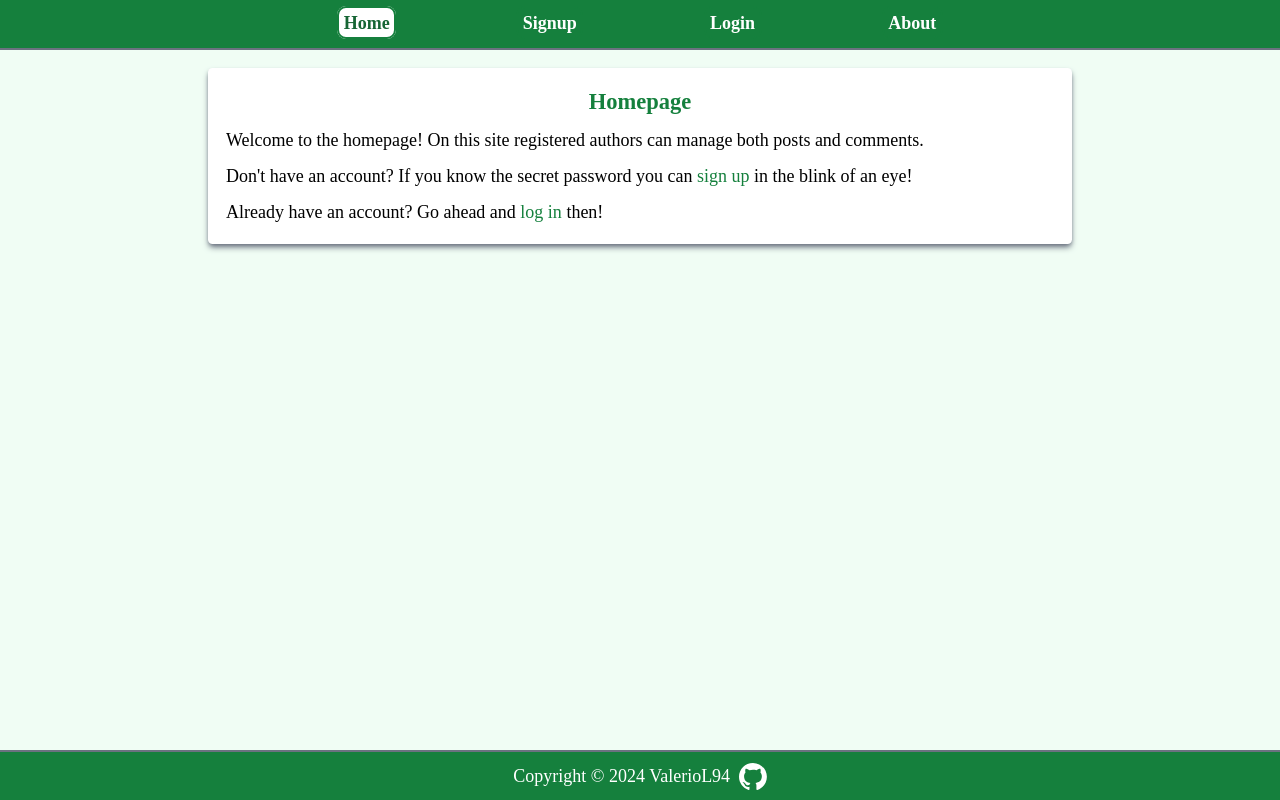
navbar component tests › no auth rendering/navigating › signup link rendering/navigating
Click the link "Signup" at (550, 22), box [516, 6, 583, 38]
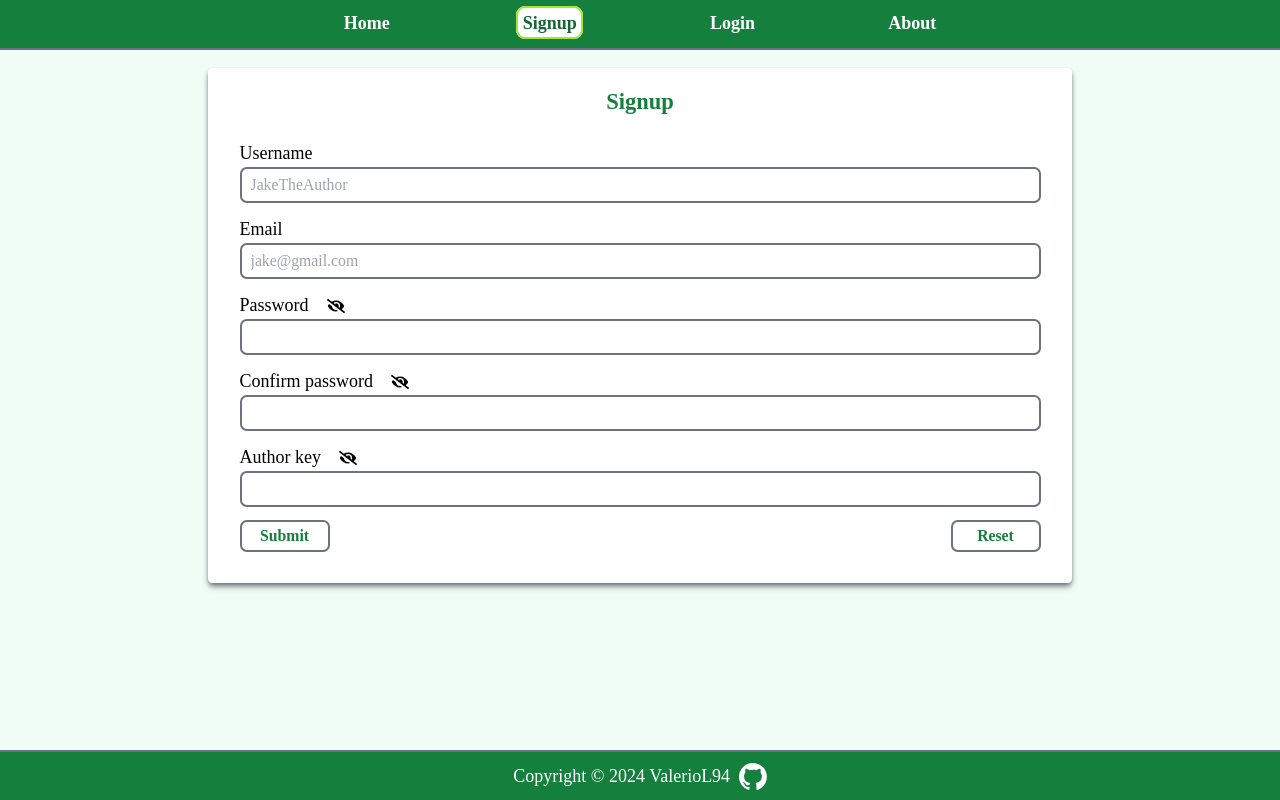
Check: the heading "Signup" is shown, box [606, 89, 674, 114]
